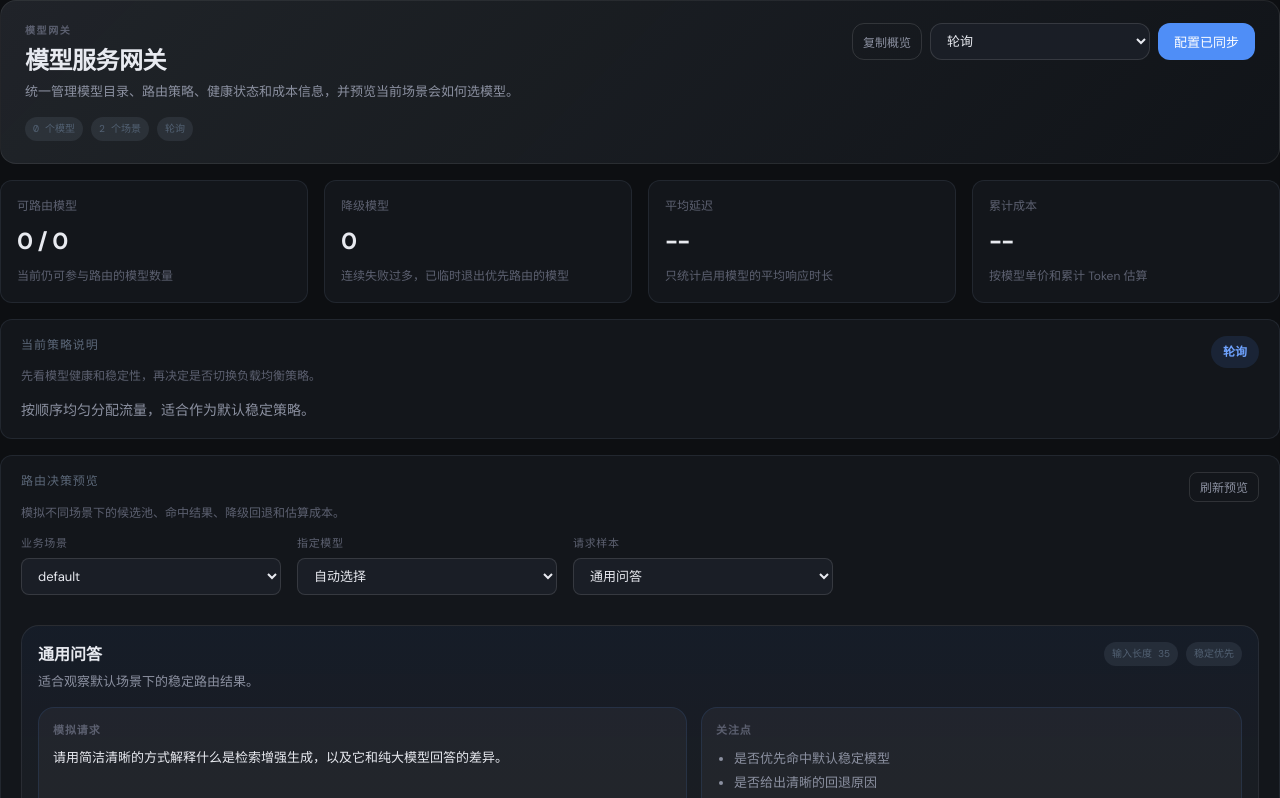
Test case: GatewayView › switches sample with scene change and refreshes route preview
Select "自动选择" in the dropdown labelled "指定模型": {"x": 427, "y": 577} [297,558,557,595]
Select "code" in the dropdown labelled "业务场景": {"x": 151, "y": 577} [21,558,281,595]
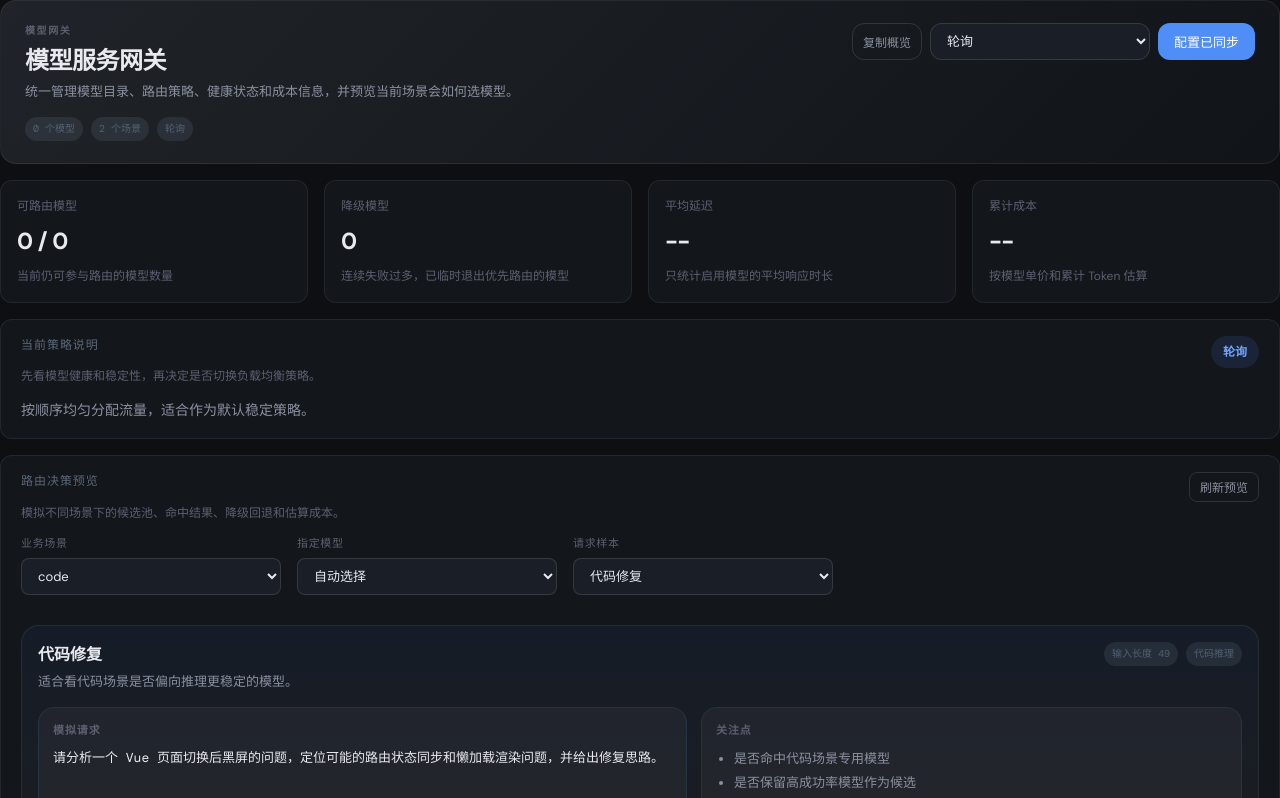
Result: the text "代码修复" is shown at [38,644,102,665]
